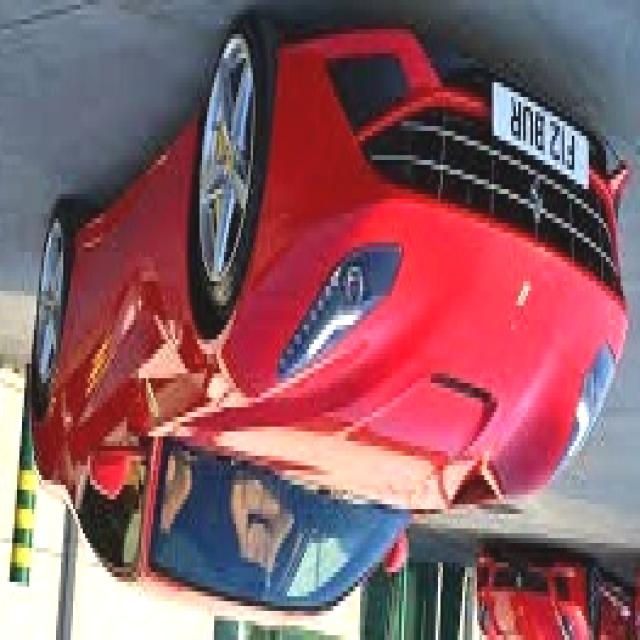red: (28, 16, 622, 614)
